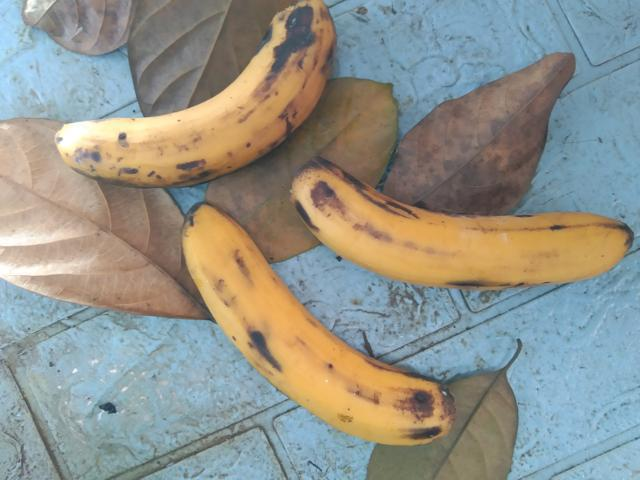overripe: (35, 0, 341, 194), (296, 165, 639, 297)
ripe: (176, 216, 465, 446)
